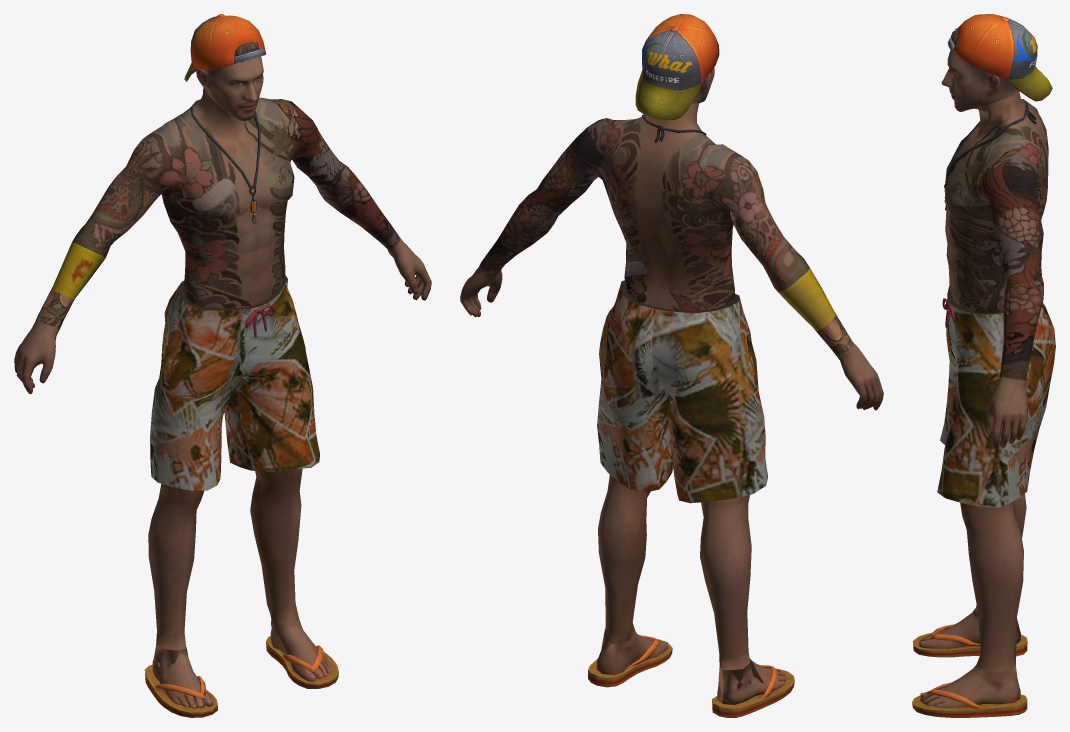
File: Beach Boy.obj
The picture shows the model from 3 angles, left to right: view 1: azimuth 30°, elevation 25°; view 2: azimuth 150°, elevation 25°; view 3: azimuth 270°, elevation 25°; orthographic projection. The views are drawn at different scales.
Parts seen in each view (by area): view 1: Body, Bottum, Hat, Shoe, Accessory_Acces; view 2: Body, Bottum, Hat, Shoe, Accessory_Acces; view 3: Body, Bottum, Hat, Shoe, Accessory_Acces.
Boxes of the visible parts, x1=… form: Body: x1=14, y1=56, x2=431, y2=708; Bottum: x1=150, y1=275, x2=319, y2=490; Hat: x1=184, y1=14, x2=265, y2=81; Shoe: x1=144, y1=636, x2=338, y2=717; Accessory_Acces: x1=51, y1=99, x2=260, y2=300; Body: x1=460, y1=68, x2=883, y2=704; Bottum: x1=597, y1=280, x2=767, y2=503; Hat: x1=635, y1=14, x2=719, y2=119; Shoe: x1=588, y1=635, x2=794, y2=717; Accessory_Acces: x1=642, y1=114, x2=835, y2=331; Body: x1=919, y1=50, x2=1048, y2=707; Bottum: x1=937, y1=285, x2=1055, y2=507; Hat: x1=947, y1=14, x2=1052, y2=101; Shoe: x1=912, y1=624, x2=1027, y2=717; Accessory_Acces: x1=944, y1=100, x2=1036, y2=210.
Size of the model in its own units: 0.5686 by 0.8738 by 0.1719.
6 materials, 6 textured.
